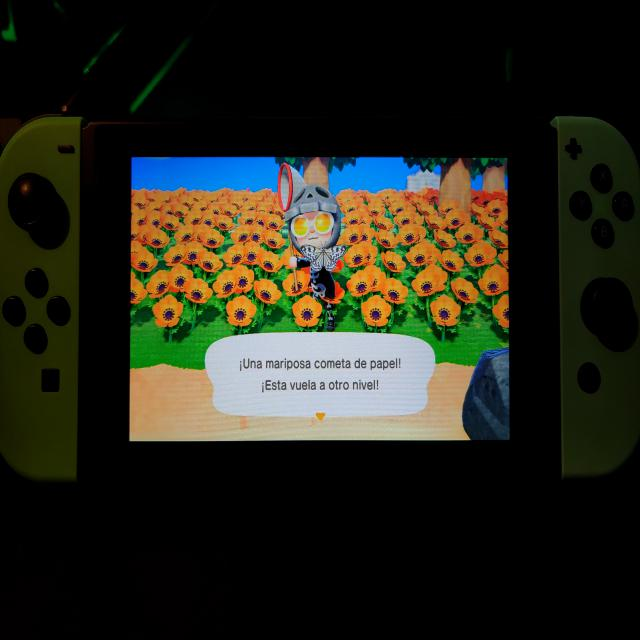text_bubble: (205, 330, 438, 424)
